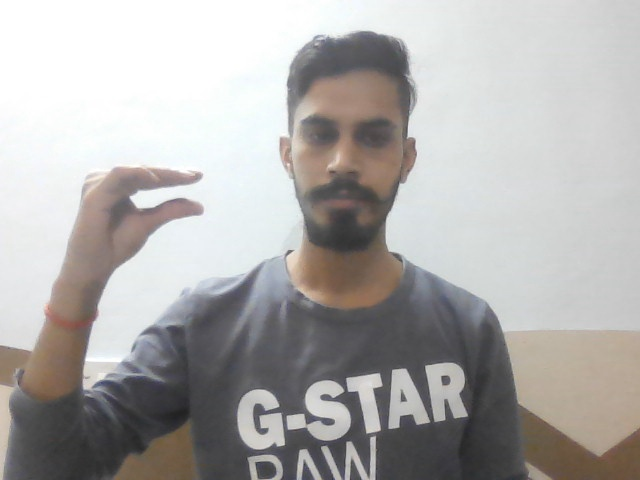No: (55, 160, 220, 266)
